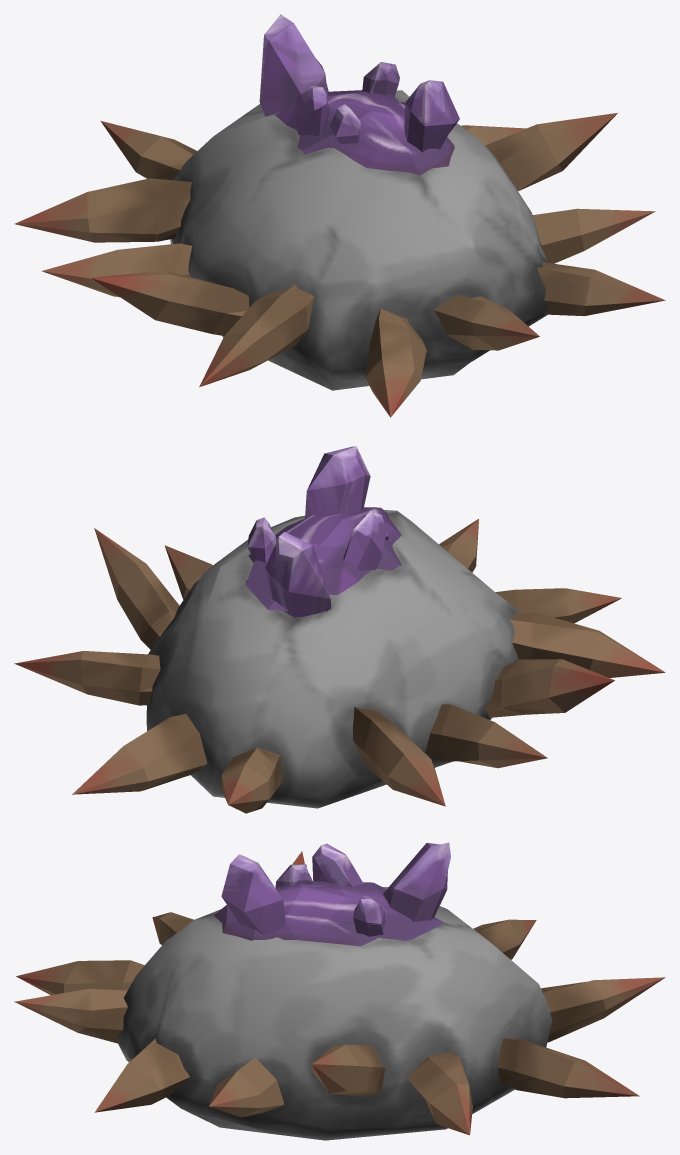
Rendered from StuddedOre.fbx.
3 views of the same model, one above another, from view 1: azimuth 30°, elevation 25°; view 2: azimuth 150°, elevation 25°; view 3: azimuth 270°, elevation 25° (orthographic). The views are drawn at different scales.
Visible parts, largest first — view 1: Cube.086, Cube.077, Cube.085, Cube.076, Cube.078, Cube.075, Cube.070, Cube.083, Cube.074, Cube.068, Cube.072, Cube.079 (+6 smaller); view 2: Cube.086, Cube.069, Cube.078, Cube.085, Cube.076, Cube.073, Cube.077, Cube.079, Cube.075, Cube.083, Cube.084, Cube.071 (+5 smaller); view 3: Cube.086, Cube.085, Cube.069, Cube.071, Cube.068, Cube.074, Cube.083, Cube.073, Cube.084, Cube.075, Cube.070, Cube.072 (+5 smaller).
Part boxes in pixels (left/top/right/bottom): Cube.086: left=170, top=90, right=550, bottom=390; Cube.077: left=14, top=178, right=191, bottom=242; Cube.085: left=275, top=90, right=454, bottom=175; Cube.076: left=91, top=270, right=249, bottom=335; Cube.078: left=199, top=285, right=314, bottom=387; Cube.075: left=485, top=113, right=617, bottom=191; Cube.070: left=365, top=309, right=426, bottom=417; Cube.083: left=259, top=14, right=328, bottom=116; Cube.074: left=537, top=262, right=665, bottom=316; Cube.068: left=434, top=295, right=539, bottom=350; Cube.072: left=532, top=208, right=655, bottom=263; Cube.079: left=41, top=243, right=192, bottom=297; Cube.086: left=146, top=510, right=521, bottom=808; Cube.069: left=72, top=714, right=207, bottom=794; Cube.078: left=510, top=612, right=665, bottom=677; Cube.085: left=245, top=507, right=401, bottom=611; Cube.076: left=484, top=659, right=614, bottom=717; Cube.073: left=14, top=651, right=160, bottom=705; Cube.077: left=353, top=707, right=445, bottom=806; Cube.079: left=425, top=704, right=547, bottom=768; Cube.075: left=94, top=528, right=179, bottom=649; Cube.083: left=265, top=532, right=331, bottom=617; Cube.084: left=305, top=446, right=370, bottom=518; Cube.071: left=221, top=747, right=283, bottom=813; Cube.086: left=117, top=887, right=552, bottom=1140; Cube.085: left=214, top=881, right=444, bottom=946; Cube.069: left=497, top=1038, right=639, bottom=1098; Cube.071: left=541, top=977, right=665, bottom=1042; Cube.068: left=14, top=988, right=127, bottom=1043; Cube.074: left=94, top=1038, right=189, bottom=1112; Cube.083: left=383, top=842, right=450, bottom=921; Cube.073: left=407, top=1052, right=472, bottom=1135; Cube.084: left=221, top=854, right=285, bottom=934; Cube.075: left=311, top=1044, right=385, bottom=1095; Cube.070: left=16, top=960, right=144, bottom=995; Cube.072: left=209, top=1058, right=283, bottom=1117.
Bounding box in the file's own units: 113 × 50.69 × 128.
1 material, 1 textured.
